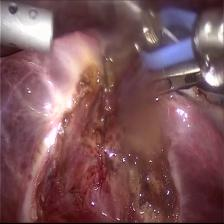Bipolar: (95, 3, 205, 82)
Grasper: (120, 58, 205, 114)
Irrigator: (0, 0, 56, 61)
